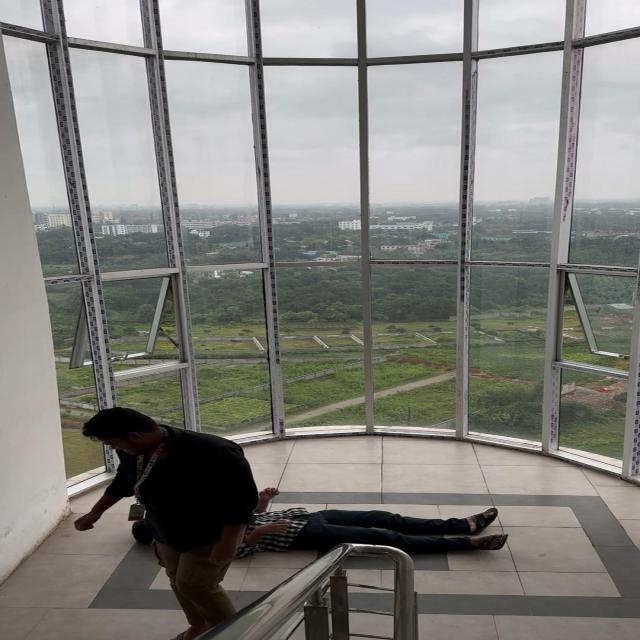fight: (44, 369, 569, 640)
